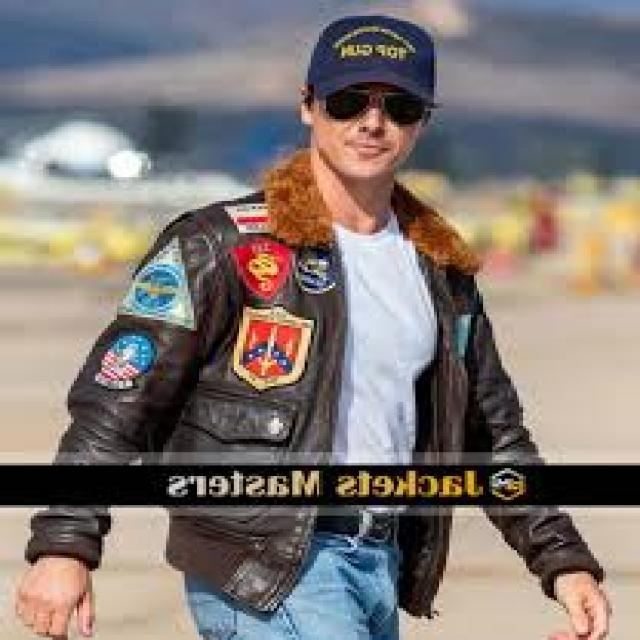Jacket: (24, 176, 610, 602)
